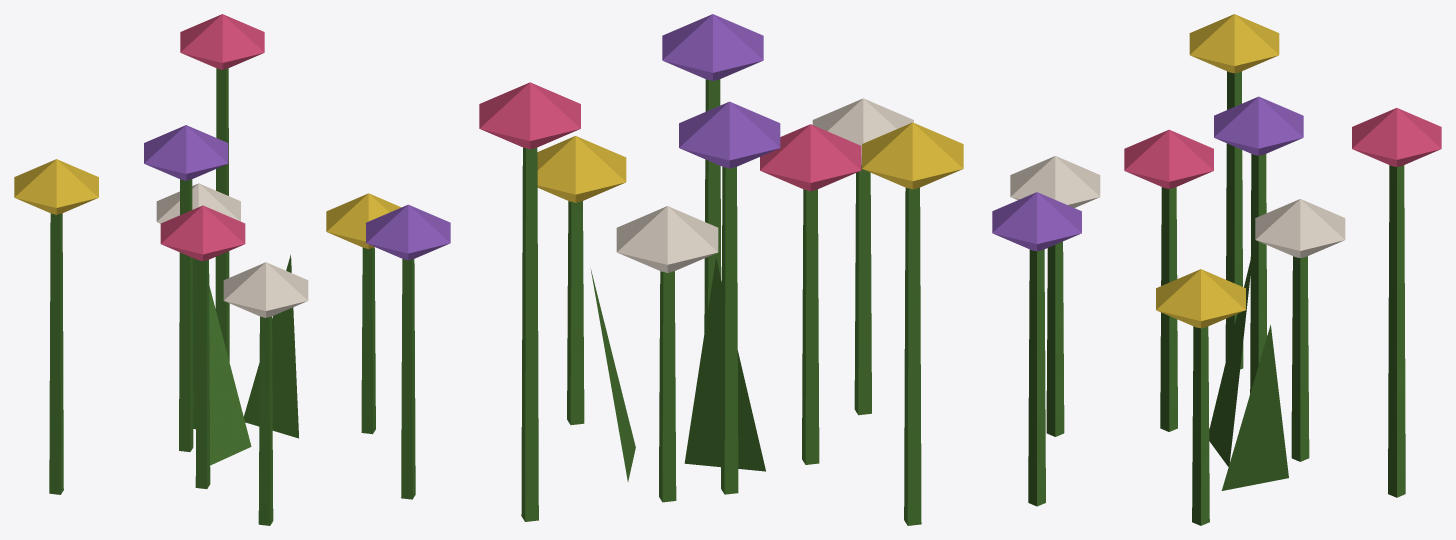
File: flower_patch_01.glb
3 views of the same model, side by side, from view 1: azimuth 30°, elevation 25°; view 2: azimuth 150°, elevation 25°; view 3: azimuth 270°, elevation 25° (orthographic). The views are drawn at different scales.
Visible parts, largest first — view 1: flower_patch_01; view 2: flower_patch_01; view 3: flower_patch_01.
Boxes of the visible parts, x1,y1,x2,y2 form: flower_patch_01: (14,14,450,525); flower_patch_01: (479,14,963,525); flower_patch_01: (992,14,1441,525).
Size of the model in its own units: 0.6311 by 0.5748 by 0.6063.
Materials: 5 (5 with a texture image).
